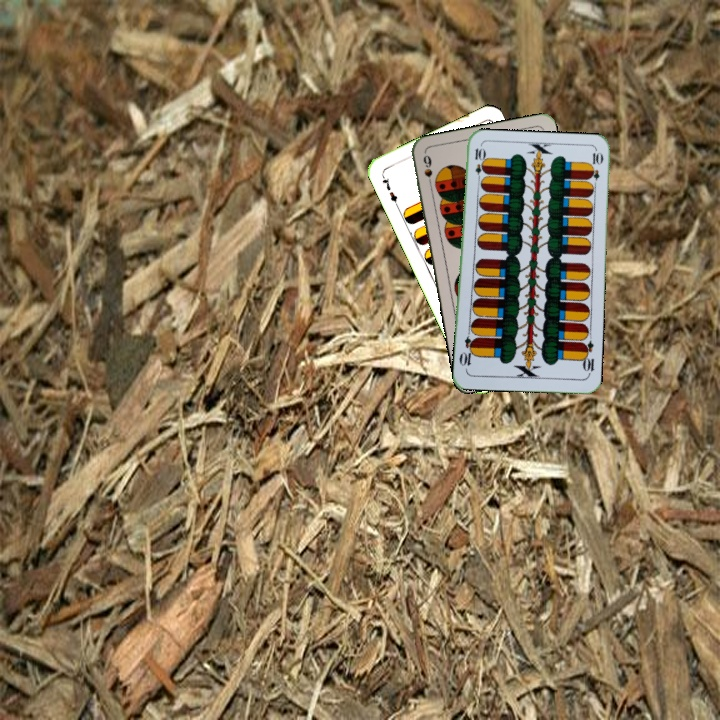E10: (577, 337, 597, 378), (471, 144, 485, 185)
E7: (378, 170, 401, 209)
S9: (419, 151, 435, 191)
